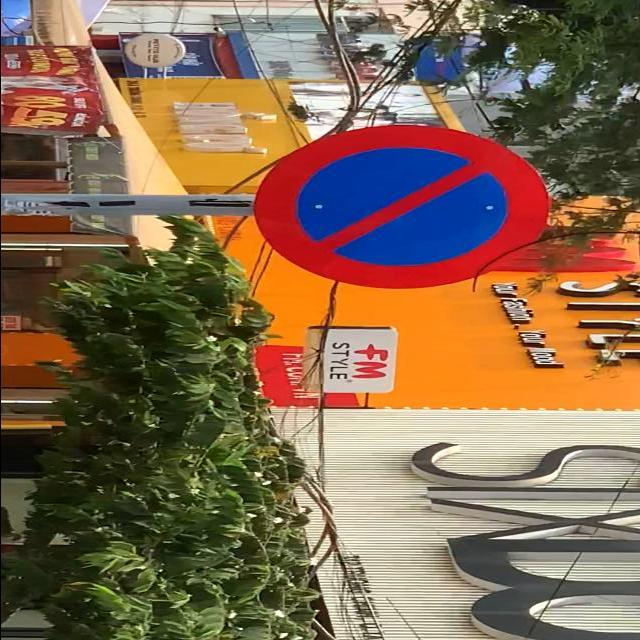P-131a: (252, 129, 552, 291)
